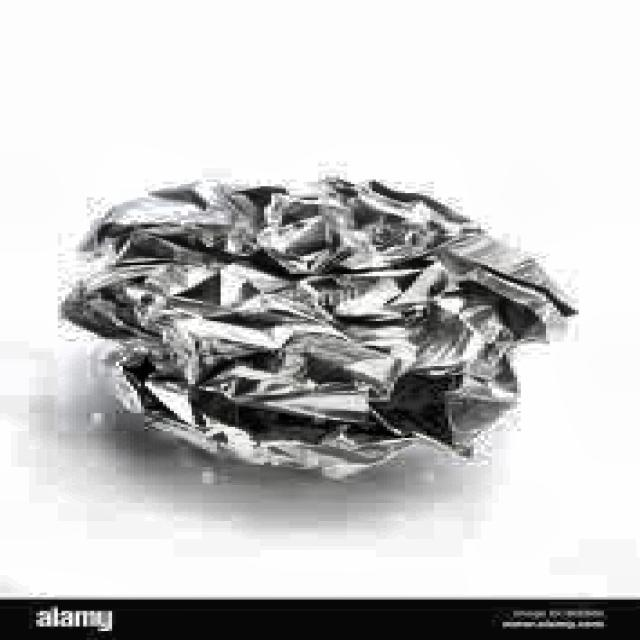Foil: (42, 171, 600, 503)
